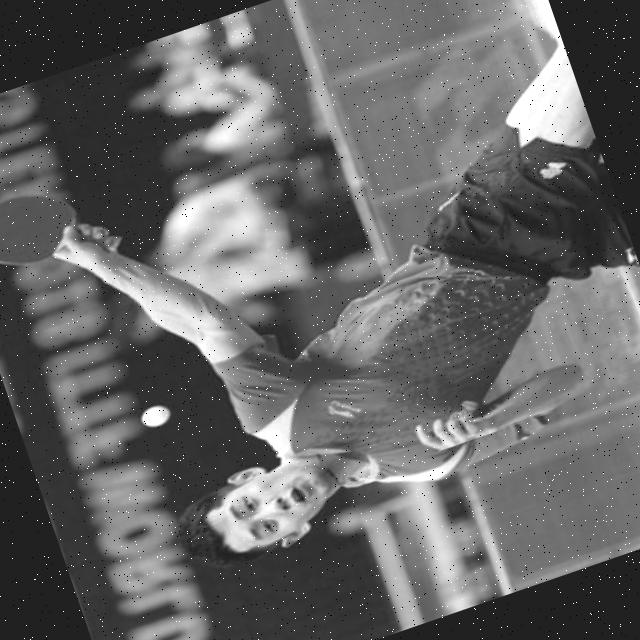ping-pong-ball: (129, 394, 174, 434)
